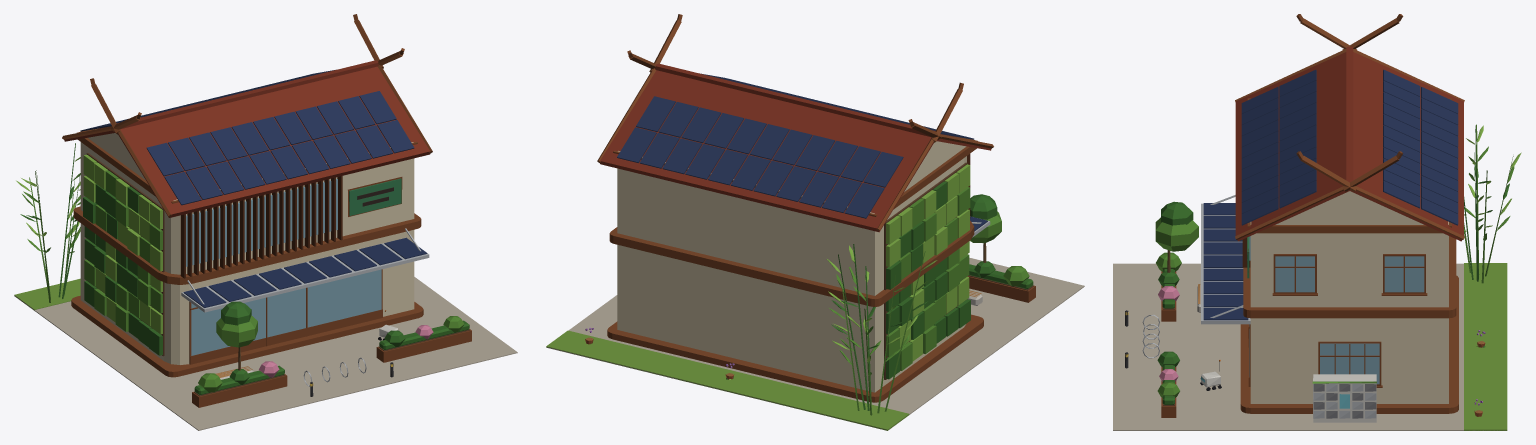
The model's file is shop_2.glb.
3 renders of one model, left to right at view 1: azimuth 30°, elevation 25°; view 2: azimuth 150°, elevation 25°; view 3: azimuth 270°, elevation 25°, orthographic. The views are drawn at different scales.
Parts seen in each view (by area): view 1: body; view 2: body; view 3: body, windows.
Part boxes in pixels (left/top/right/bottom): body: left=14, top=14, right=517, bottom=430; body: left=546, top=14, right=1084, bottom=430; body: left=1113, top=14, right=1521, bottom=430; windows: left=1125, top=312, right=1376, bottom=408.
Bounding box in the file's own units: 16.69 × 12.04 × 16.49.
